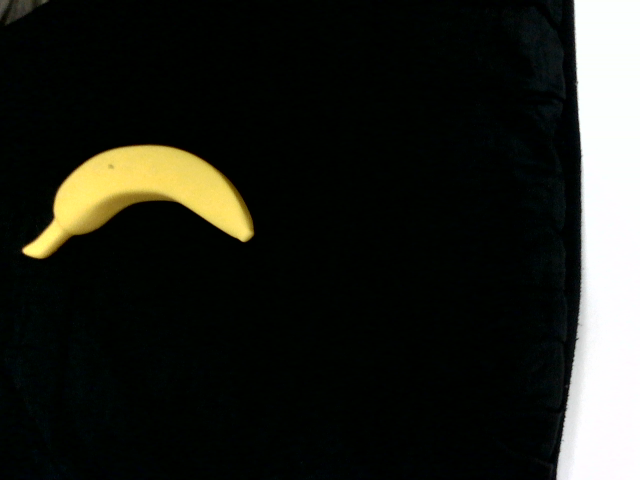banana: (14, 136, 254, 260)
